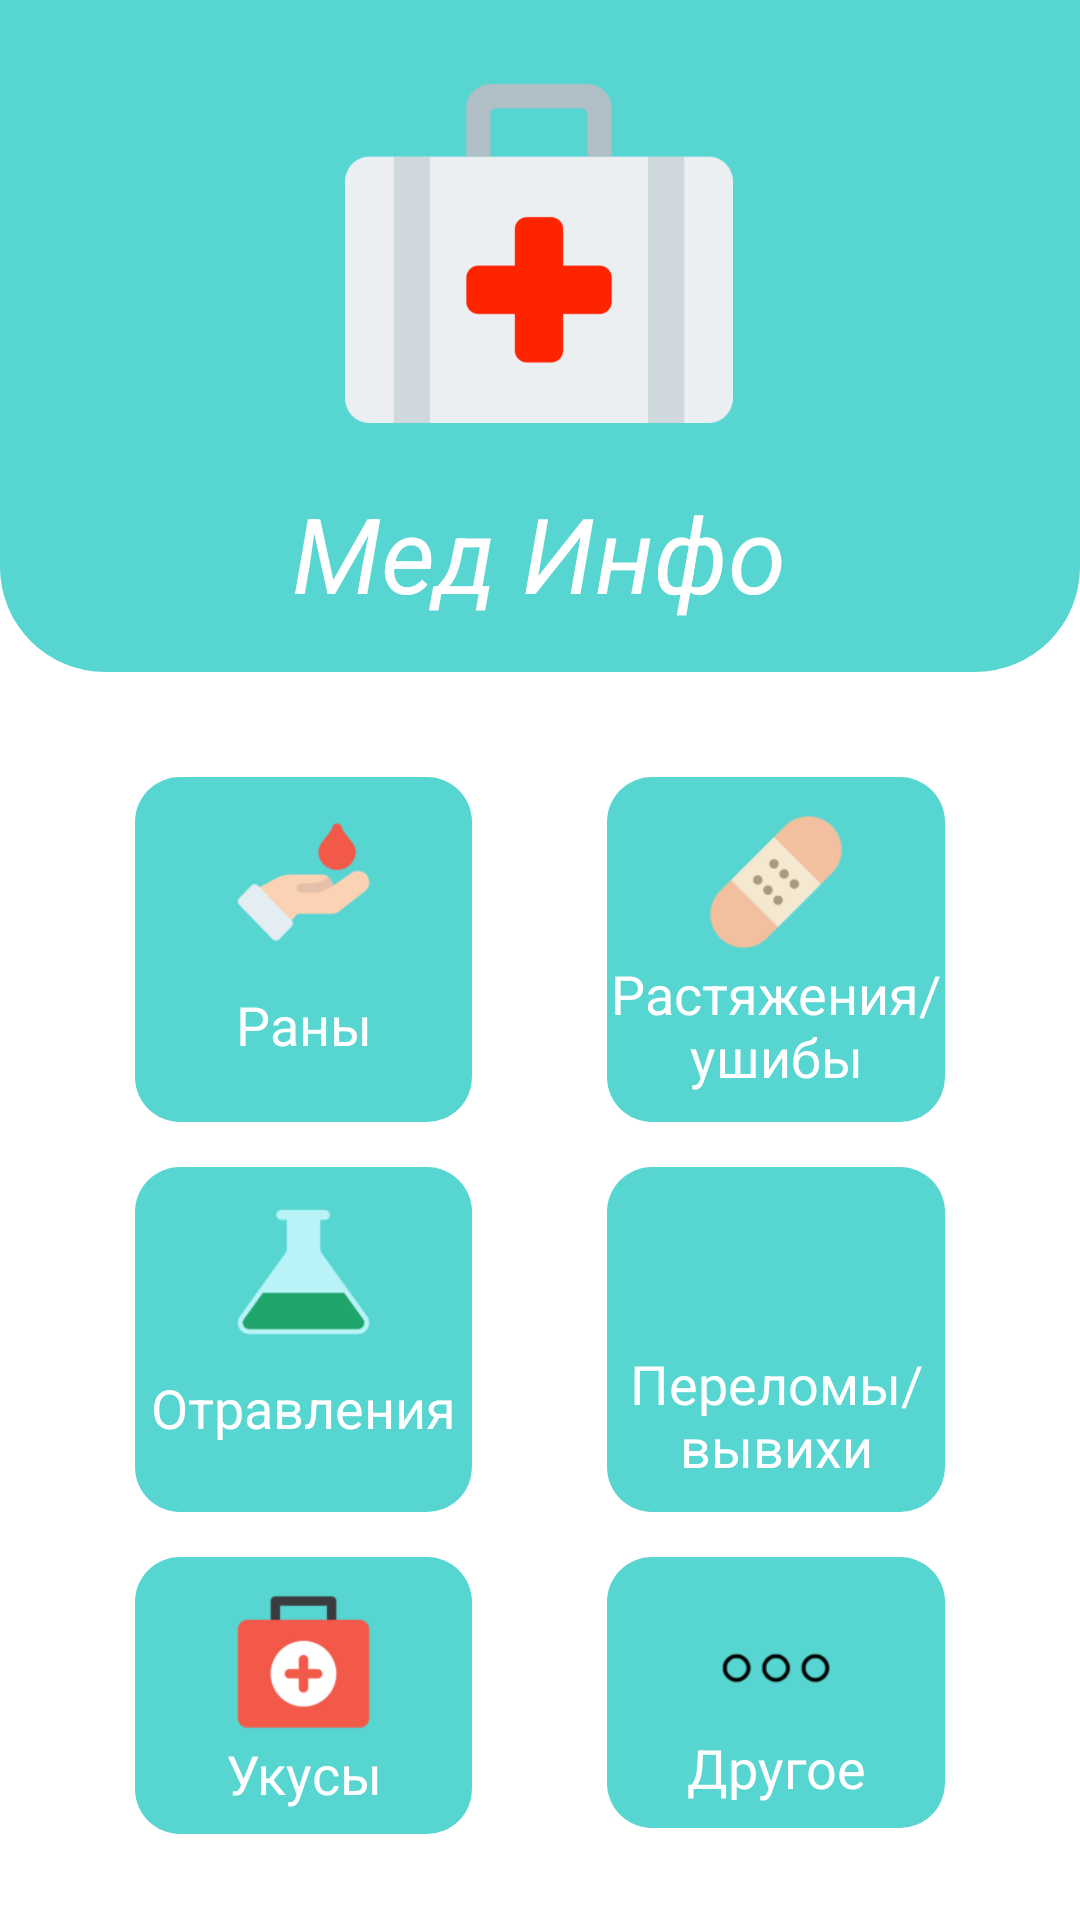

Named icons in this screenshot (1080px x 1920px) and their centers, point (x, y):
bandage: point (776, 882)
dots three: point (776, 1668)
poison: point (303, 1272)
wounds: point (303, 882)
